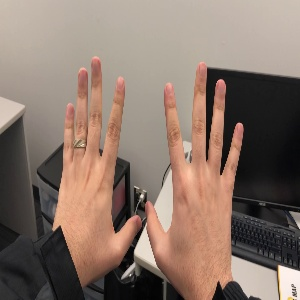hand: (145, 61, 243, 274), (53, 57, 141, 253)
